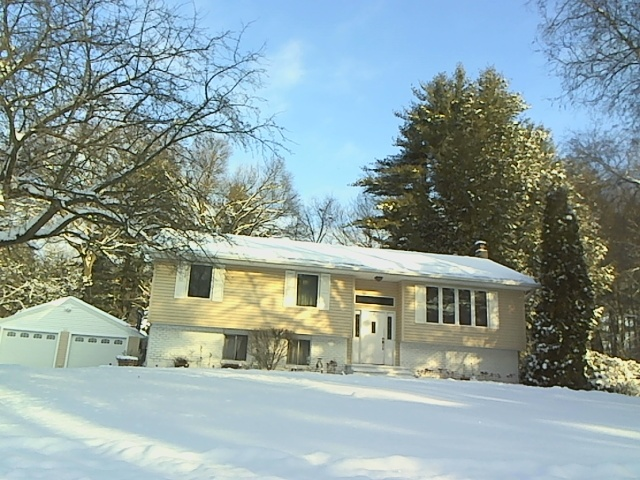Unploughed: (355, 291, 398, 424)
